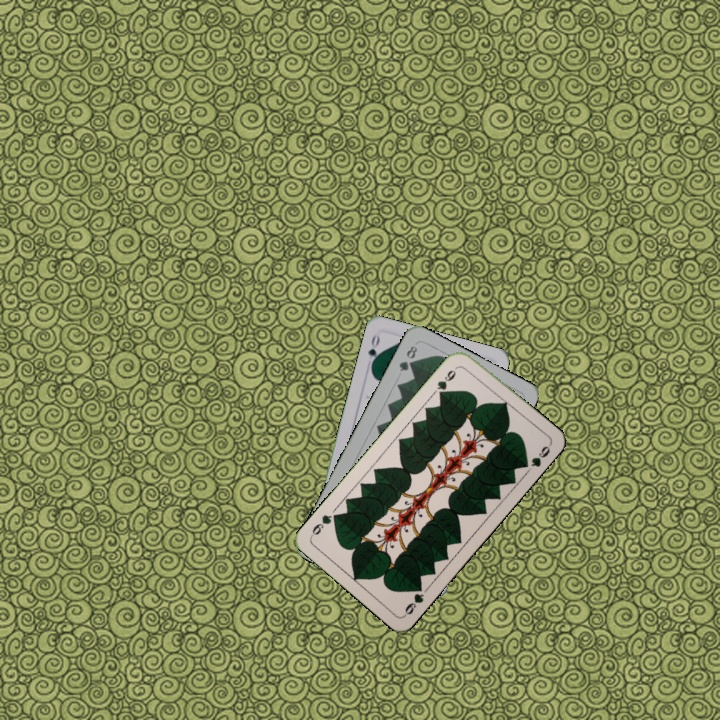G8: (395, 341, 420, 374)
G9: (430, 362, 461, 399), (400, 580, 427, 619)
GO: (364, 331, 382, 371)
